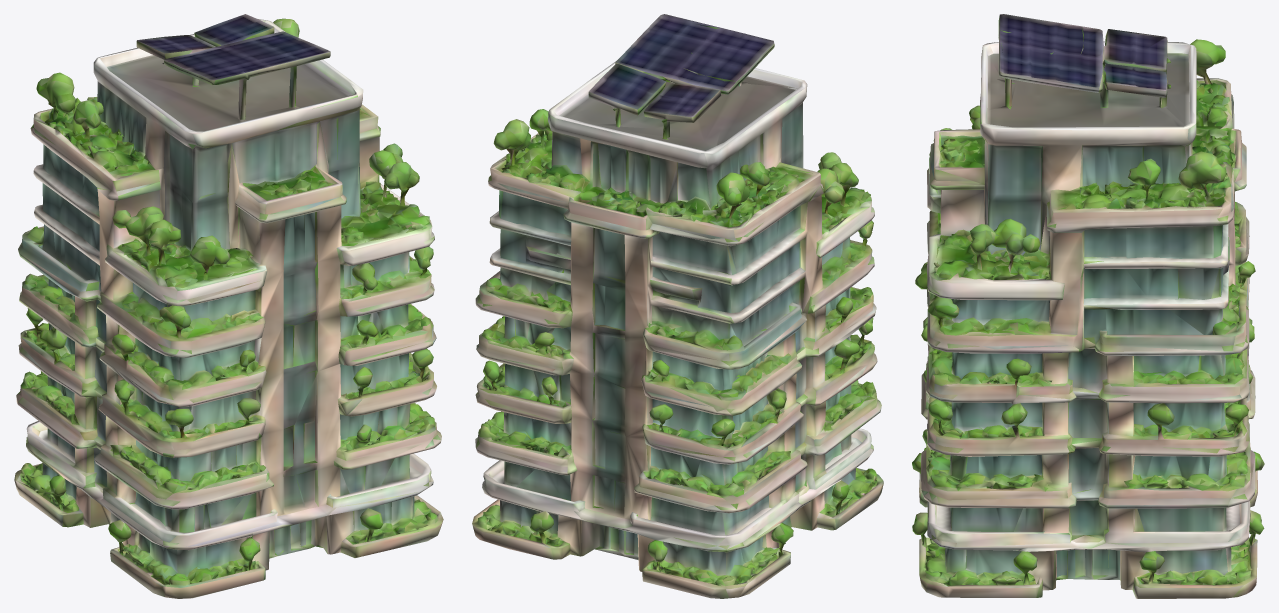
The model's file is apartment.glb.
3 views of the same model, side by side, from view 1: azimuth 30°, elevation 25°; view 2: azimuth 150°, elevation 25°; view 3: azimuth 270°, elevation 25° (orthographic). The views are drawn at different scales.
Parts seen in each view (by area): view 1: Mesh_0; view 2: Mesh_0; view 3: Mesh_0.
Boxes of the visible parts, left/top/right/bottom form: Mesh_0: left=14, top=14, right=443, bottom=598; Mesh_0: left=472, top=14, right=883, bottom=598; Mesh_0: left=912, top=14, right=1264, bottom=598.
Size of the model in its own units: 1.26 by 1.91 by 1.26.
1 material, 1 textured.
